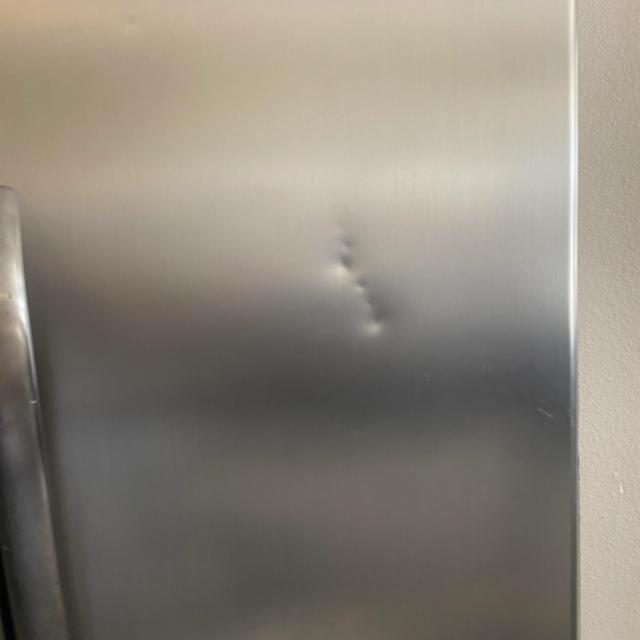dents: (312, 223, 430, 365)
